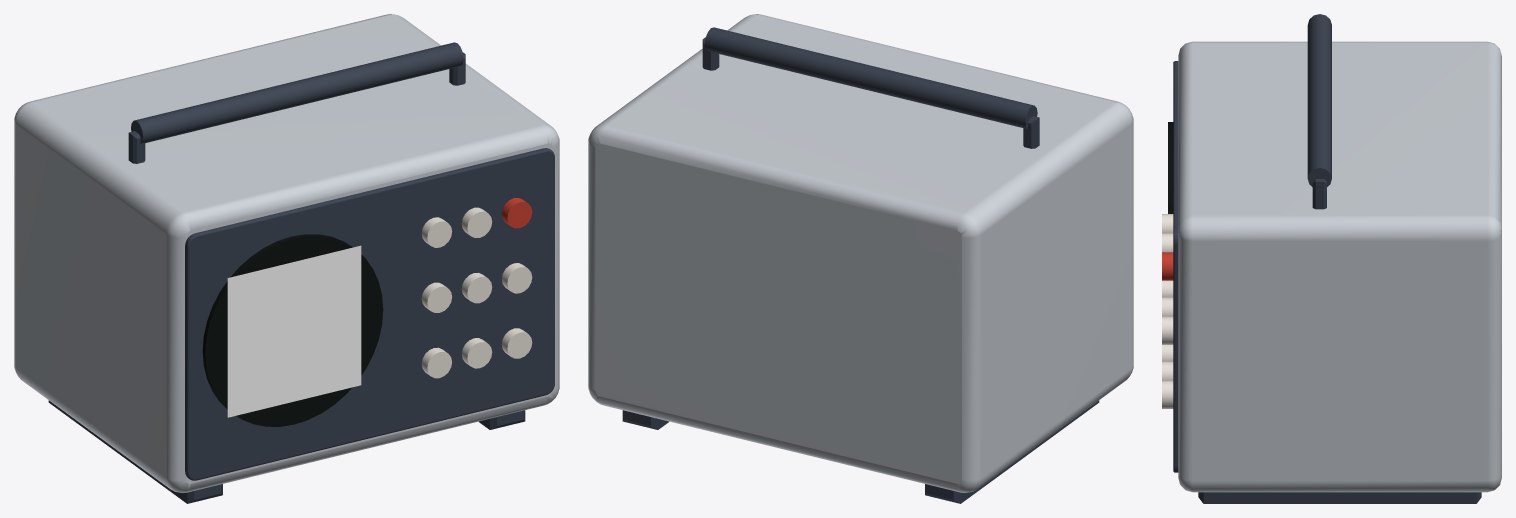
File: scope.glb
3 renders of one model, left to right at view 1: azimuth 30°, elevation 25°; view 2: azimuth 150°, elevation 25°; view 3: azimuth 270°, elevation 25°, orthographic.
Visible parts, largest first — view 1: Body, Panel, Screen, Bezel, Knob, Red; view 2: Body, Panel; view 3: Body, Panel, Knob, Bezel.
Part boxes in pixels (x1=…): Body: x1=14, y1=14, x2=559, y2=492; Panel: x1=48, y1=42, x2=554, y2=503; Screen: x1=227, y1=245, x2=361, y2=417; Bezel: x1=202, y1=234, x2=383, y2=426; Knob: x1=421, y1=207, x2=532, y2=378; Red: x1=501, y1=198, x2=532, y2=228; Body: x1=588, y1=14, x2=1133, y2=492; Panel: x1=622, y1=27, x2=1099, y2=503; Body: x1=1178, y1=41, x2=1501, y2=492; Panel: x1=1173, y1=14, x2=1481, y2=503; Knob: x1=1162, y1=214, x2=1173, y2=408; Bezel: x1=1168, y1=122, x2=1173, y2=213.
Bounding box in the file's own units: 0.44 × 0.362 × 0.336.
